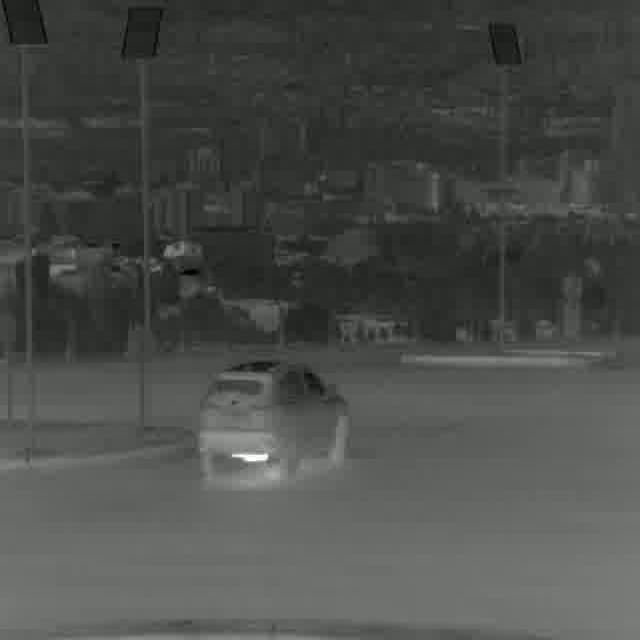Car: (200, 358, 350, 482)
